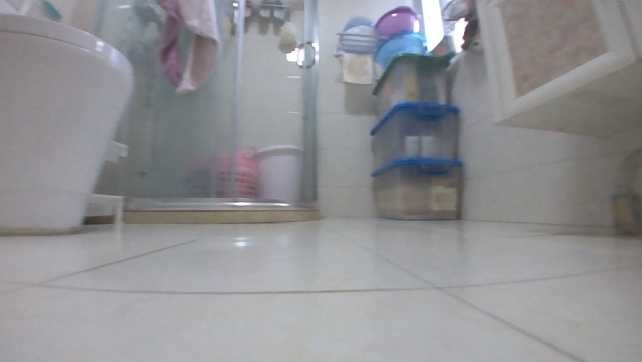toilet_part: (0, 12, 138, 234)
